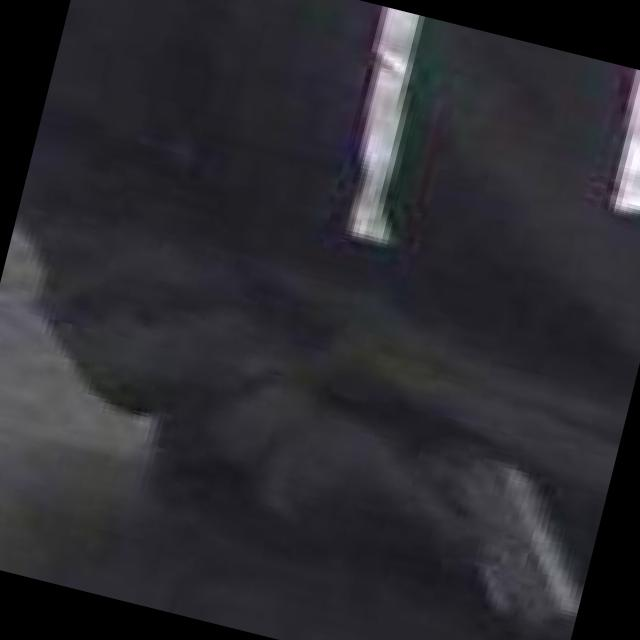Guns: (348, 389, 619, 640)
